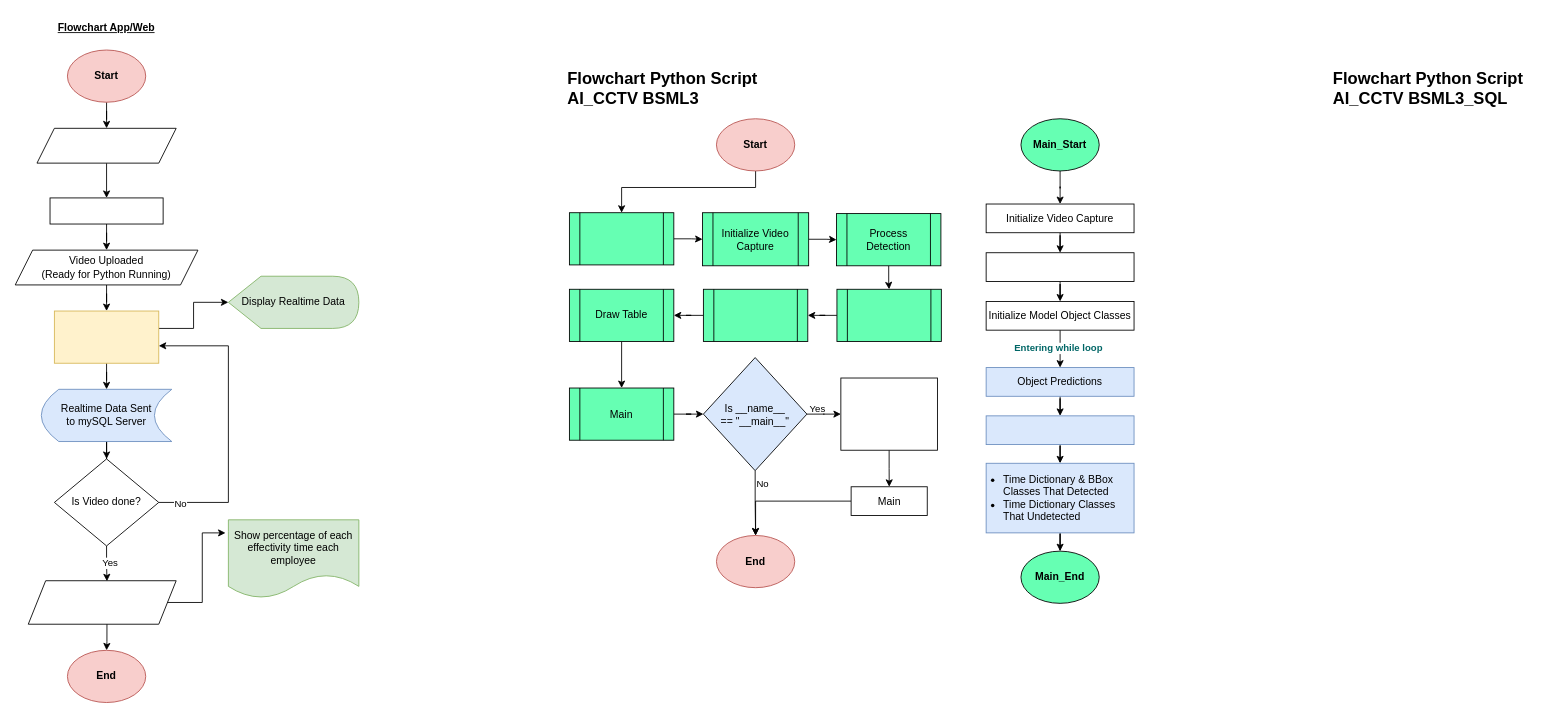
This 1552x718 diagram has some shape labels left out. Each missing label, with the centre of its shape:
"Calculate Percentages" goes at [755,314].
"Detections" goes at [1059,430].
"Import Library" goes at [621,238].
"Initialize Models" goes at [1059,266].
"Python Running for Video Predicting" goes at [106,336].
"Resume data" goes at [101,602].
"Update Data Table" goes at [888,314].
"Upload Video File" goes at [106,145].
"Uploading Process..." goes at [106,210].
"Video Path Model Confidence Threshold Video Scale" goes at [888,413].
